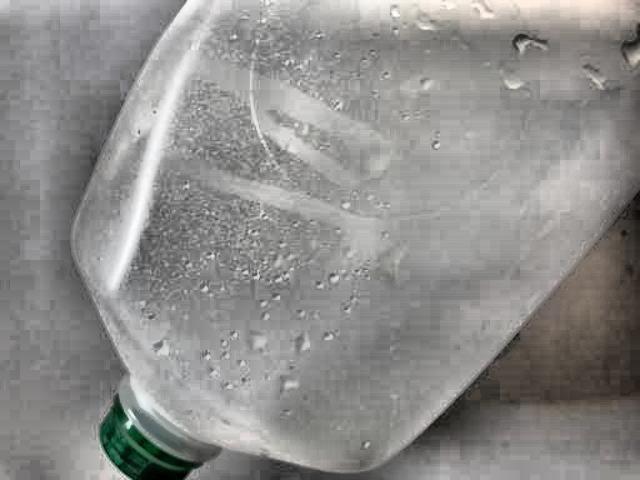Plastic: (90, 0, 640, 480)
